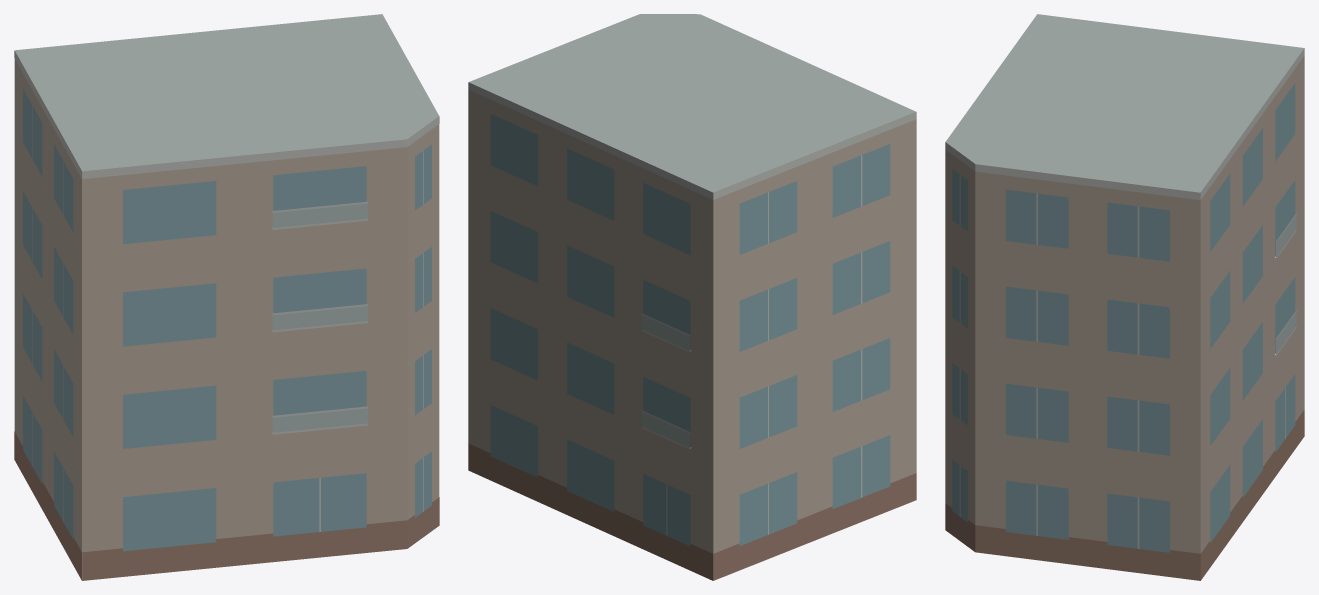
Rendered from survey-upis-32904381.glb.
3 renders of one model, left to right at view 1: azimuth 30°, elevation 25°; view 2: azimuth 150°, elevation 25°; view 3: azimuth 270°, elevation 25°, orthographic. The views are drawn at different scales.
Visible parts, largest first — view 1: survey-upis-32904381.tmp; view 2: survey-upis-32904381.tmp; view 3: survey-upis-32904381.tmp.
Part boxes in pixels (x1,y1,x2,y2): survey-upis-32904381.tmp: (14, 14, 439, 580); survey-upis-32904381.tmp: (468, 14, 916, 580); survey-upis-32904381.tmp: (945, 14, 1304, 580).
Size of the model in its own units: 12.65 by 12.8 by 10.75.
